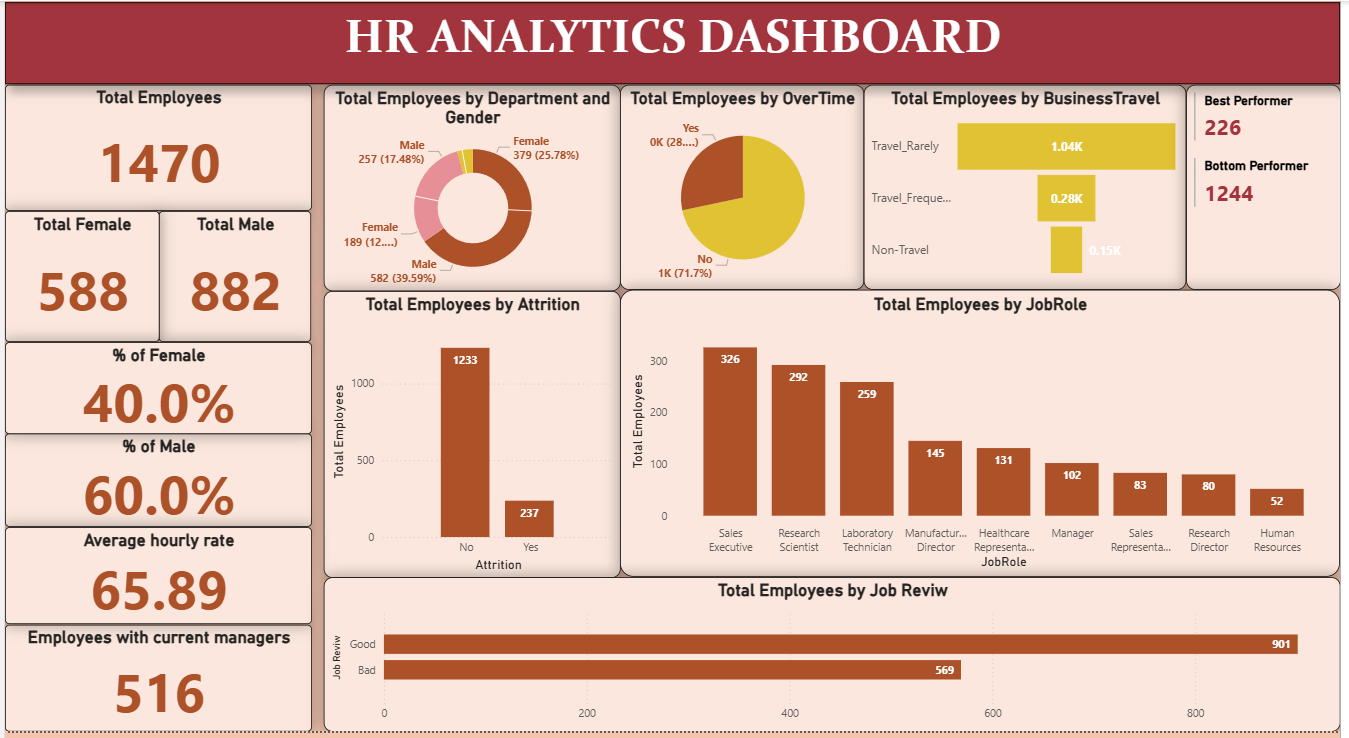

What the dashboard file says about the page in this screenshot:
{"tool":"powerbi","page":{"name":"Summery","canvas":[1500,820],"ordinal":0},"visuals":[{"type":"card","title":"Total Employees","fields":{"Values":["Count(HR-Employee-Attrition.EmployeeNumber)"]},"box":[0,94,344.6,141.9],"z":0},{"type":"card","title":"Total Male","fields":{"Values":["*My Measures*.Total Male"]},"box":[173.2,235.9,171.4,147.4],"z":1000},{"type":"card","title":"Total Female","fields":{"Values":["*My Measures*.Total female"]},"box":[0,235.9,173.2,147.4],"z":2000},{"type":"card","title":"% of Male","fields":{"Values":["*My Measures*.% Male"]},"box":[0,486.5,344.6,105],"z":3000},{"type":"card","title":"% of Female","fields":{"Values":["*My Measures*.% Female"]},"box":[0,383.3,344.6,103.2],"z":4000},{"type":"donutChart","fields":{"Y":["*My Measures*.Total Employees"],"Category":["HR-Employee-Attrition.Department"],"Series":["HR-Employee-Attrition.Gender"]},"box":[357.5,94,333.5,232.2],"z":5000},{"type":"columnChart","fields":{"Y":["*My Measures*.Total Employees"],"Category":["HR-Employee-Attrition.Attrition"]},"box":[357.5,326.2,333.5,322.5],"z":6000},{"type":"pieChart","fields":{"Y":["*My Measures*.Total Employees"],"Category":["HR-Employee-Attrition.OverTime"]},"box":[691,94,274.6,230.3],"z":7000},{"type":"funnel","title":"Total Employees by BusinessTravel","fields":{"Category":["HR-Employee-Attrition.BusinessTravel"],"Y":["CountNonNull(HR-Employee-Attrition.Gender)"]},"box":[964.9,94.1,362.4,230.3],"z":8000},{"type":"multiRowCard","fields":{"Values":["HR-Employee-Attrition.Best/Bottom Performers","*My Measures*.Total Employees"]},"box":[1326.7,94,173.2,230.3],"z":9000},{"type":"textbox","box":[0,1.8,1500,92.1],"z":10000},{"type":"card","title":"Employees with current managers","fields":{"Values":["CountNonNull(HR-Employee-Attrition.Emp with current managers)"]},"box":[0,700.2,344.6,119.8],"z":11000},{"type":"card","title":"Average hourly rate","fields":{"Values":["Avg(HR-Employee-Attrition.HourlyRate)"]},"box":[0,591.5,344.6,108.7],"z":12000},{"type":"columnChart","fields":{"Category":["HR-Employee-Attrition.JobRole"],"Y":["*My Measures*.Total Employees"]},"box":[691,324.3,808.9,322.5],"z":13000},{"type":"barChart","fields":{"Category":["HR-Employee-Attrition.Job Reviw"],"Y":["*My Measures*.Total Employees"]},"box":[357.5,646.8,1142.5,173.2],"z":14000}]}

Visuals, with their boxes in screenshot pixels (x1, y1, x2, y2), scaled from the page's 1500x820 canvas onto the 1349x738 screenshot:
"Total Employees" card: 0 85 310 212
"Total Male" card: 156 212 310 345
"Total Female" card: 0 212 156 345
"% of Male" card: 0 438 310 532
"% of Female" card: 0 345 310 438
donutChart - *My Measures*.Total Employees x HR-Employee-Attrition.Department: 322 85 621 294
columnChart - *My Measures*.Total Employees x HR-Employee-Attrition.Attrition: 322 294 621 584
pieChart - *My Measures*.Total Employees x HR-Employee-Attrition.OverTime: 621 85 868 292
"Total Employees by BusinessTravel" funnel: 868 85 1194 292
multiRowCard - HR-Employee-Attrition.Best/Bottom Performers x *My Measures*.Total Employees: 1193 85 1348 292
textbox: 0 2 1348 85
"Employees with current managers" card: 0 630 310 737
"Average hourly rate" card: 0 532 310 630
columnChart - HR-Employee-Attrition.JobRole x *My Measures*.Total Employees: 621 292 1348 582
barChart - HR-Employee-Attrition.Job Reviw x *My Measures*.Total Employees: 322 582 1348 737
